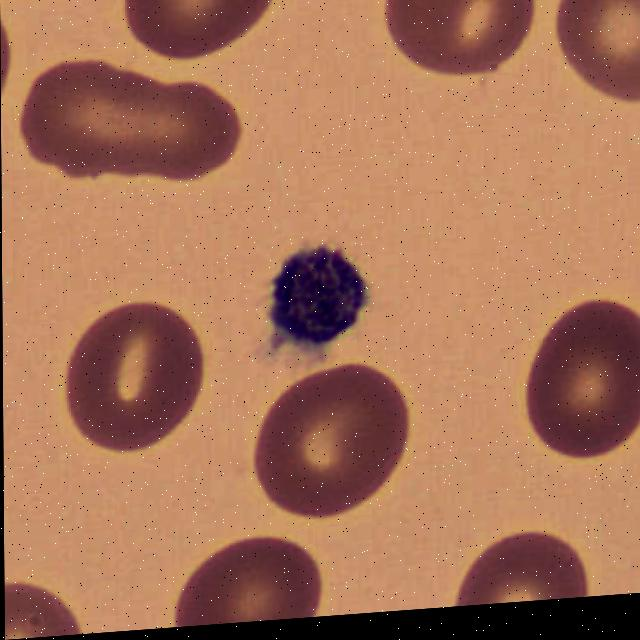platelets: (266, 241, 376, 358)
rbc: (239, 352, 421, 527), (52, 290, 209, 465), (511, 287, 640, 469), (435, 511, 616, 608), (159, 525, 326, 628), (129, 73, 257, 191), (57, 67, 171, 190), (11, 53, 115, 185), (100, 0, 294, 67), (377, 0, 534, 82), (551, 0, 640, 125), (5, 547, 102, 640), (0, 8, 17, 110)
